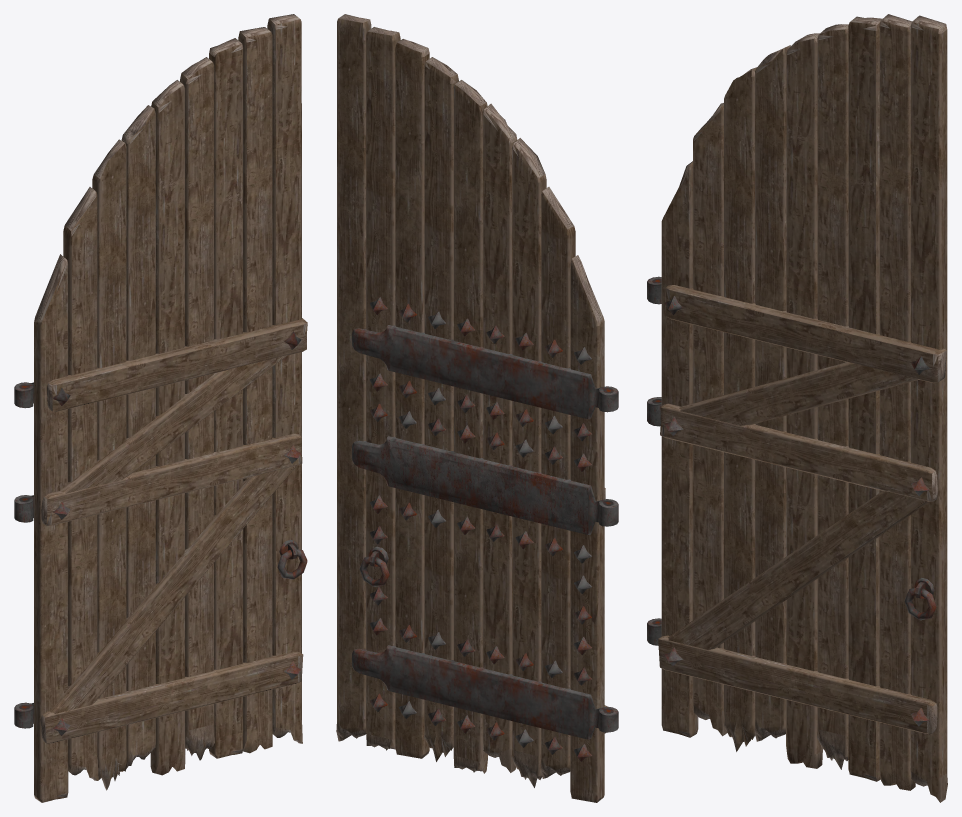
The picture shows the model from 3 angles, left to right: view 1: azimuth 30°, elevation 25°; view 2: azimuth 150°, elevation 25°; view 3: azimuth 330°, elevation 25°; orthographic projection. The views are drawn at different scales.
Visible parts, largest first — view 1: SM_PortalDoorA01_LOD0; view 2: SM_PortalDoorA01_LOD0; view 3: SM_PortalDoorA01_LOD0.
Boxes of the visible parts, <box> form: SM_PortalDoorA01_LOD0: <box>14,14,307,802</box>; SM_PortalDoorA01_LOD0: <box>336,14,618,802</box>; SM_PortalDoorA01_LOD0: <box>647,14,947,802</box>.
Size of the model in its own units: 1.95 by 4.77 by 0.3034.
